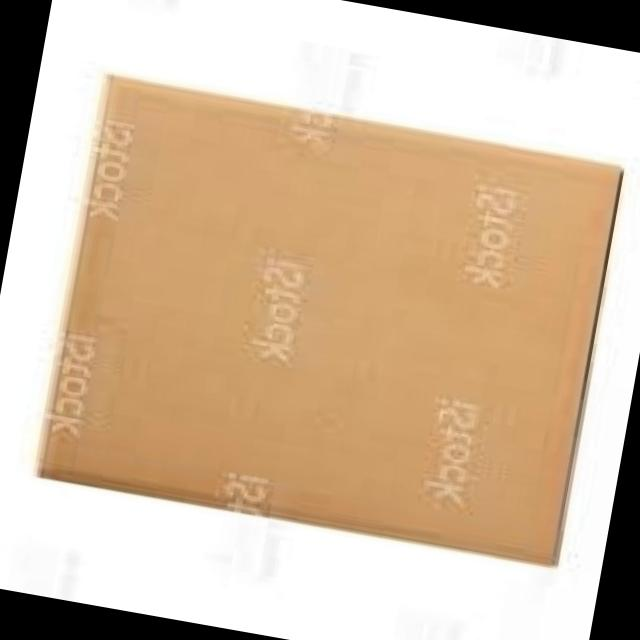cardboard paper: (37, 74, 619, 561)
